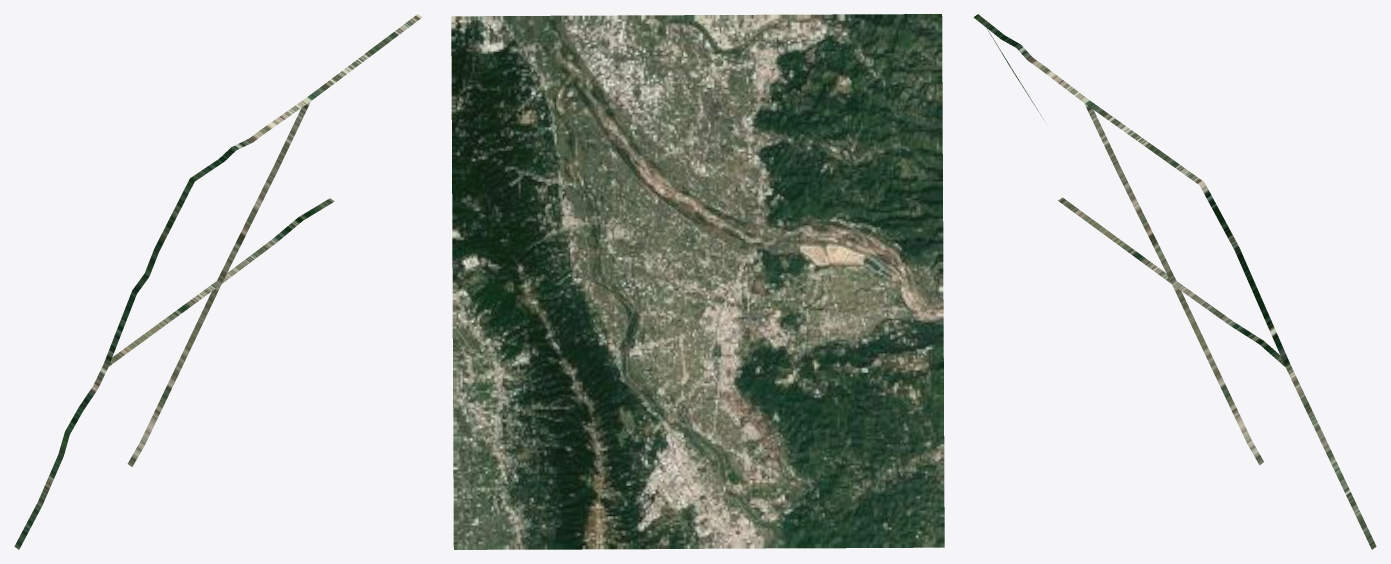
3 renders of one model, left to right at view 1: azimuth 30°, elevation 25°; view 2: azimuth 150°, elevation 25°; view 3: azimuth 270°, elevation 25°, orthographic. The views are drawn at different scales.
Size of the model in its own units: 19794 by 18102 by 16051.
1 material, 1 textured.
